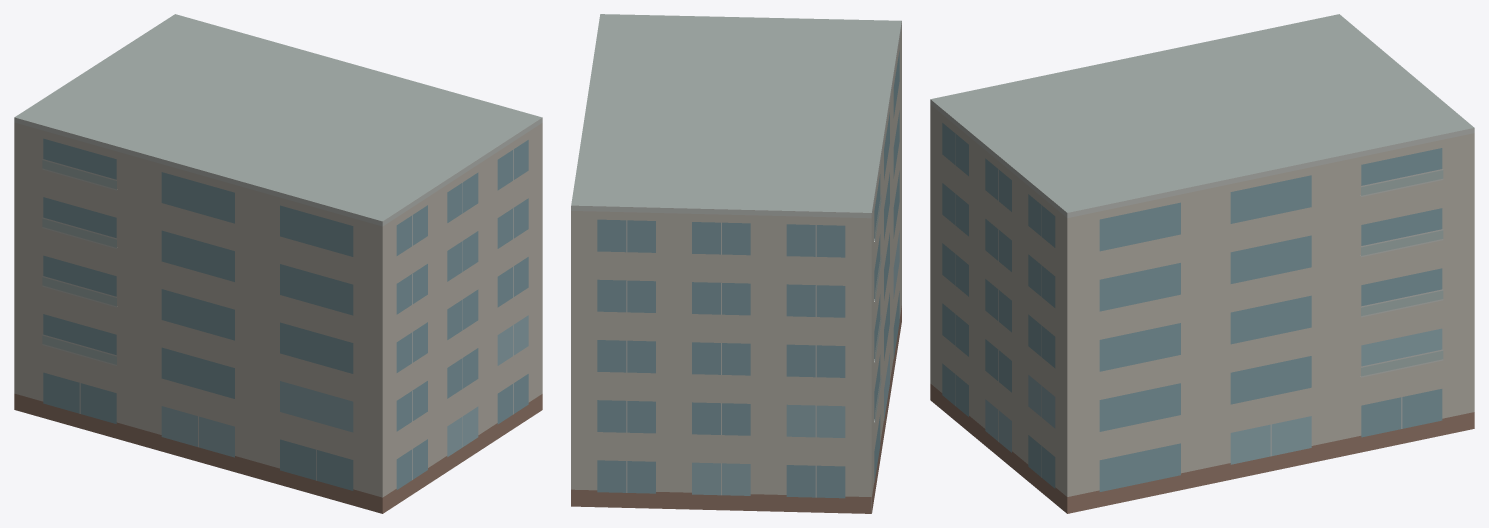
The model's file is survey-upis-32831095.glb.
3 renders of one model, left to right at view 1: azimuth 30°, elevation 25°; view 2: azimuth 150°, elevation 25°; view 3: azimuth 270°, elevation 25°, orthographic. The views are drawn at different scales.
Visible parts, largest first — view 1: survey-upis-32831095.tmp; view 2: survey-upis-32831095.tmp; view 3: survey-upis-32831095.tmp.
Part boxes in pixels (x1,y1,x2,y2): survey-upis-32831095.tmp: (14,14,542,513); survey-upis-32831095.tmp: (571,14,901,513); survey-upis-32831095.tmp: (930,14,1474,513).
Size of the model in its own units: 19.78 by 13.95 by 22.87.
